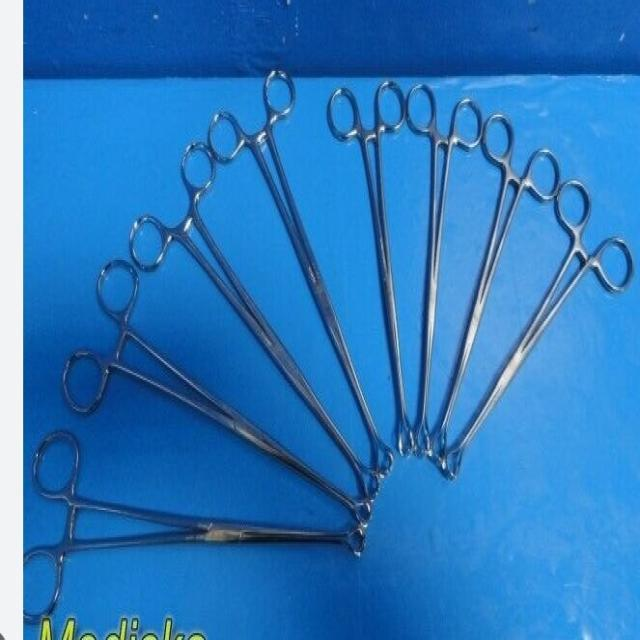Babcock Forceps: (124, 136, 380, 504), (61, 244, 372, 540), (203, 66, 393, 487), (26, 420, 368, 632), (444, 178, 636, 482), (425, 112, 564, 464), (325, 79, 417, 473), (403, 80, 485, 462)
